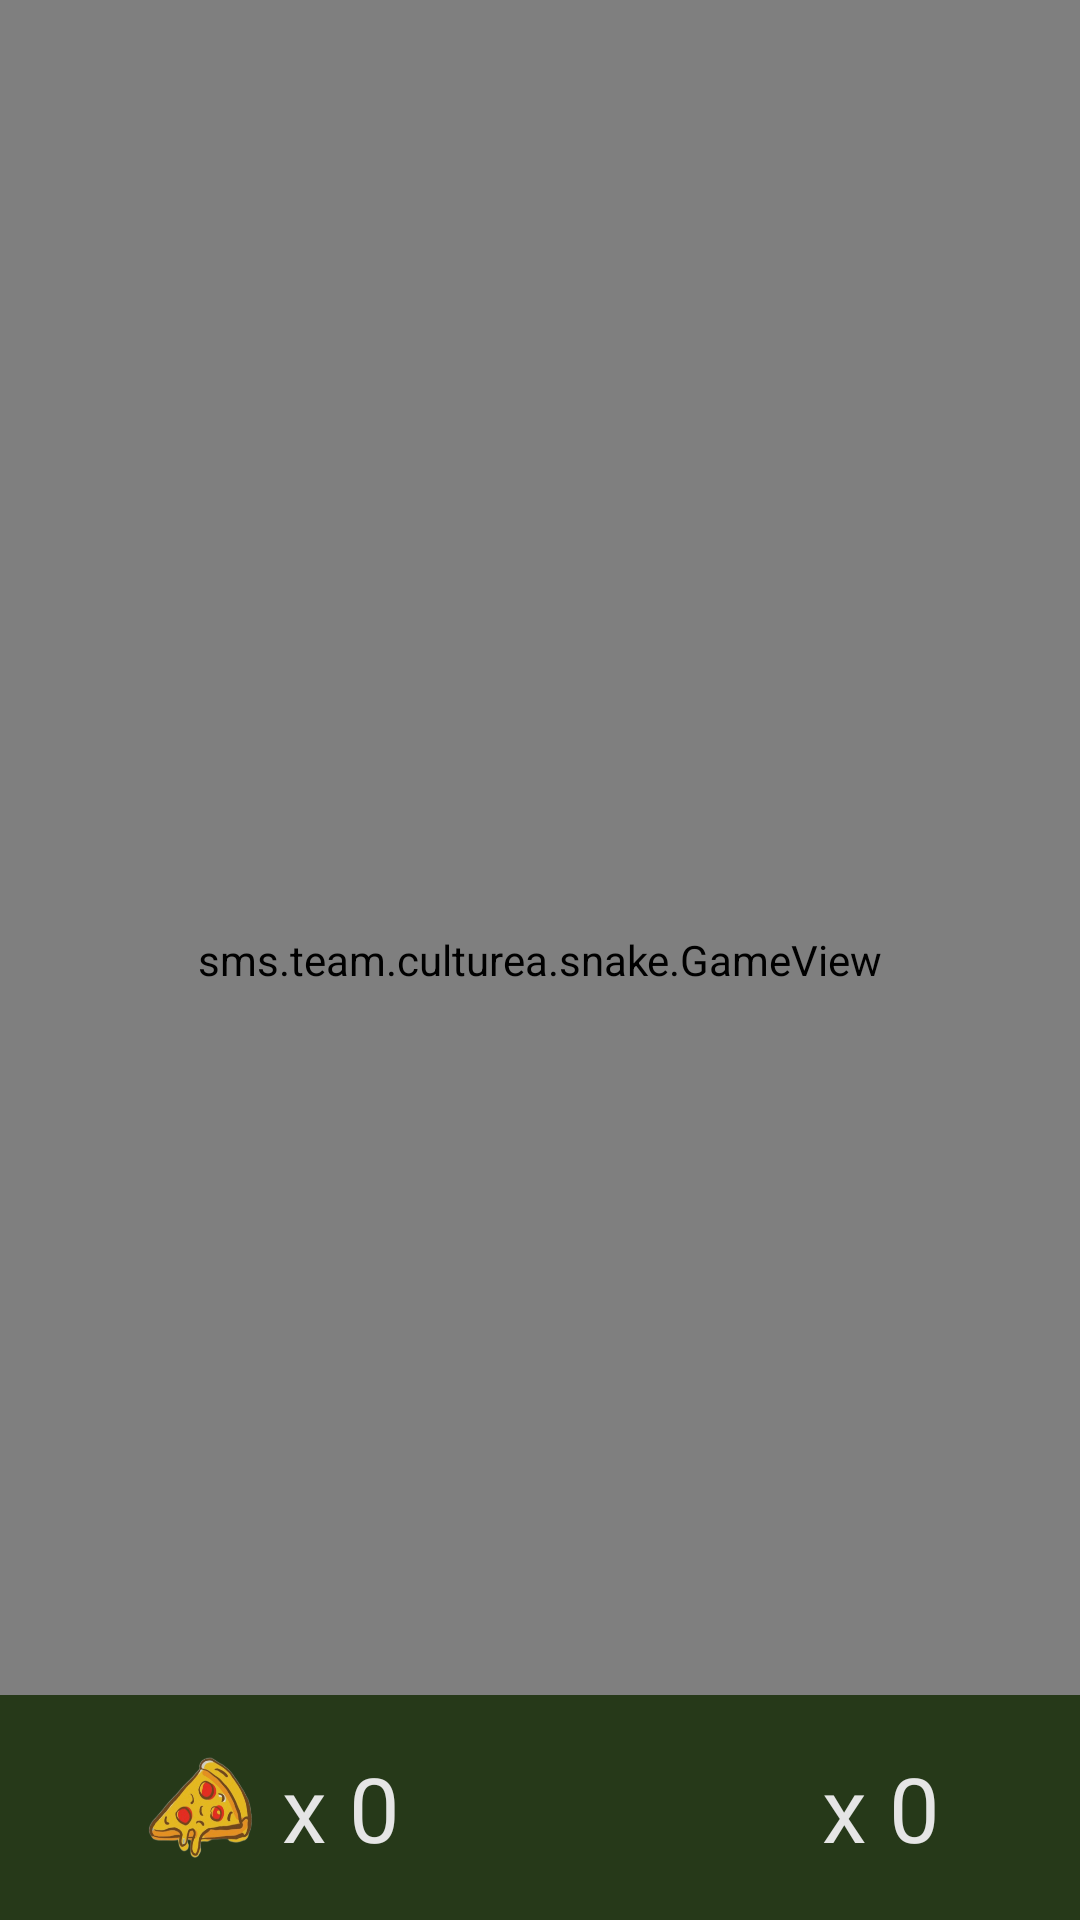

Screen size 1080 x 1920. Icon name, then its box in pixels as (x1, y1, x2, y2):
pizza: (149, 1758, 252, 1858)
